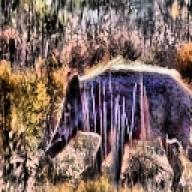boar: (42, 60, 192, 192)
